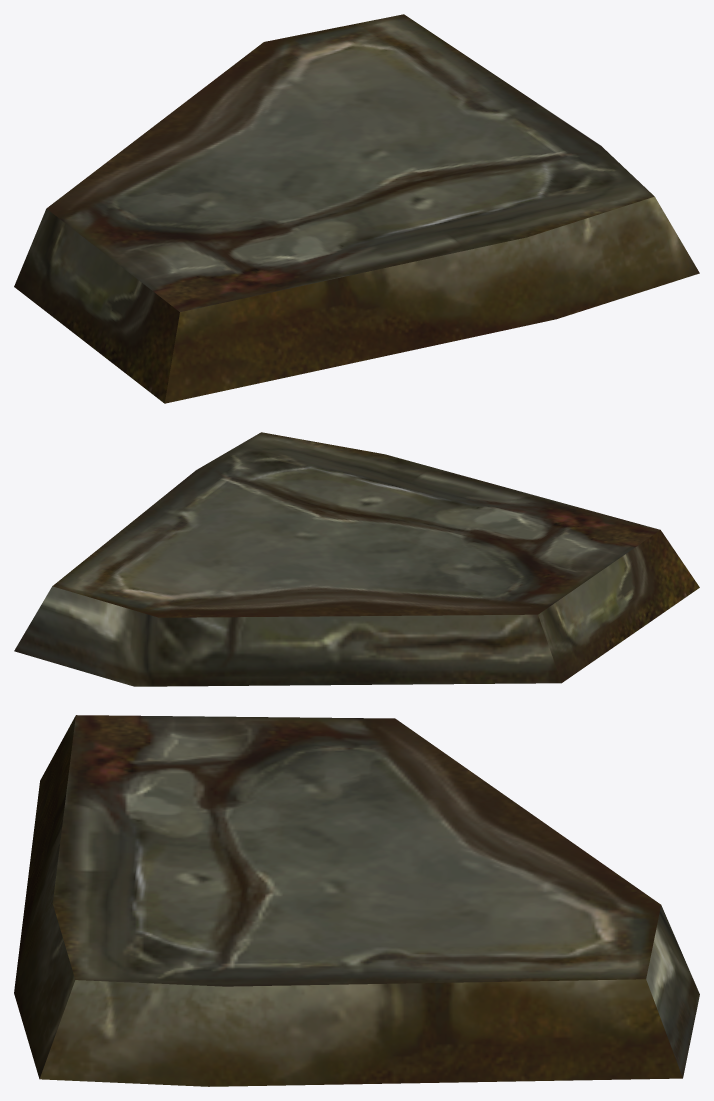
File: C_dizhuan007.fbx
The picture shows the model from 3 angles, top to bottom: view 1: azimuth 30°, elevation 25°; view 2: azimuth 150°, elevation 25°; view 3: azimuth 270°, elevation 25°; orthographic projection. The views are drawn at different scales.
Parts seen in each view (by area): view 1: C_dizhuan007; view 2: C_dizhuan007; view 3: C_dizhuan007.
Boxes of the visible parts, bbox=[...] form: C_dizhuan007: bbox=[14, 14, 699, 403]; C_dizhuan007: bbox=[14, 432, 699, 686]; C_dizhuan007: bbox=[14, 715, 699, 1086].
Size of the model in its own units: 199 by 25.19 by 189.
